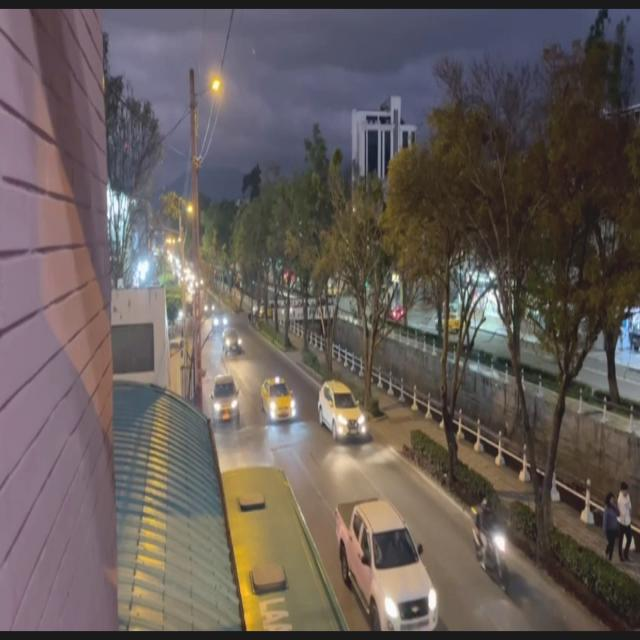CMT: (336, 506, 434, 634)
MOTORCYCLE: (478, 509, 508, 598)
SED: (264, 380, 294, 420)
SUV: (322, 382, 366, 436)
